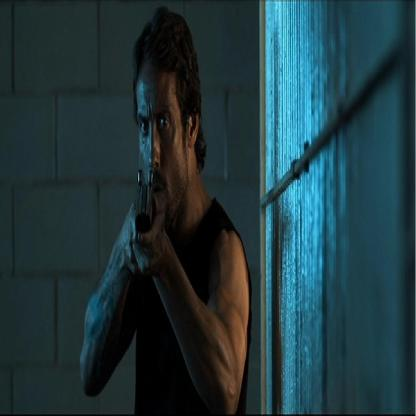Gun: (134, 162, 156, 261)
